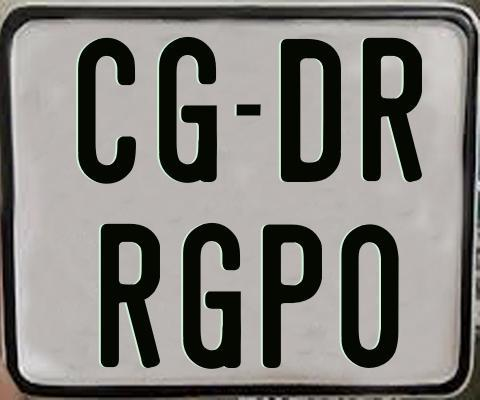0: (339, 224, 398, 371)
C: (76, 38, 139, 190)
D: (279, 36, 341, 183)
G: (183, 221, 244, 372), (158, 37, 217, 188)
P: (260, 223, 324, 370)
R: (360, 38, 423, 186), (101, 221, 164, 365)
